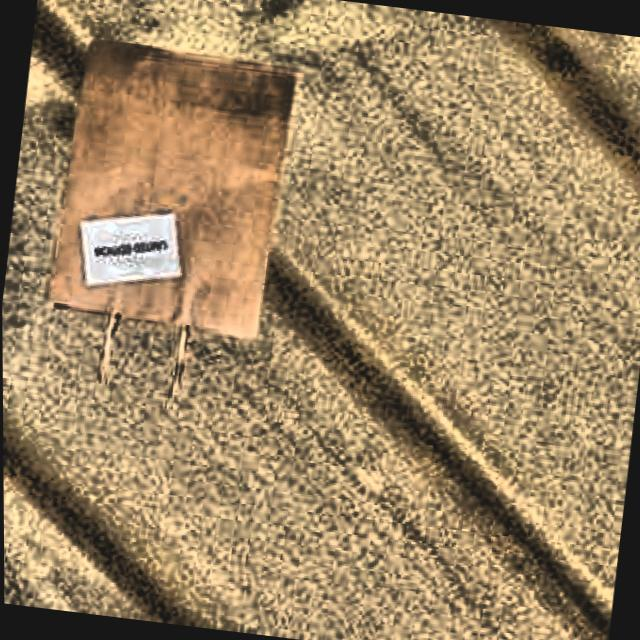Paper-bag: (27, 22, 316, 429)
